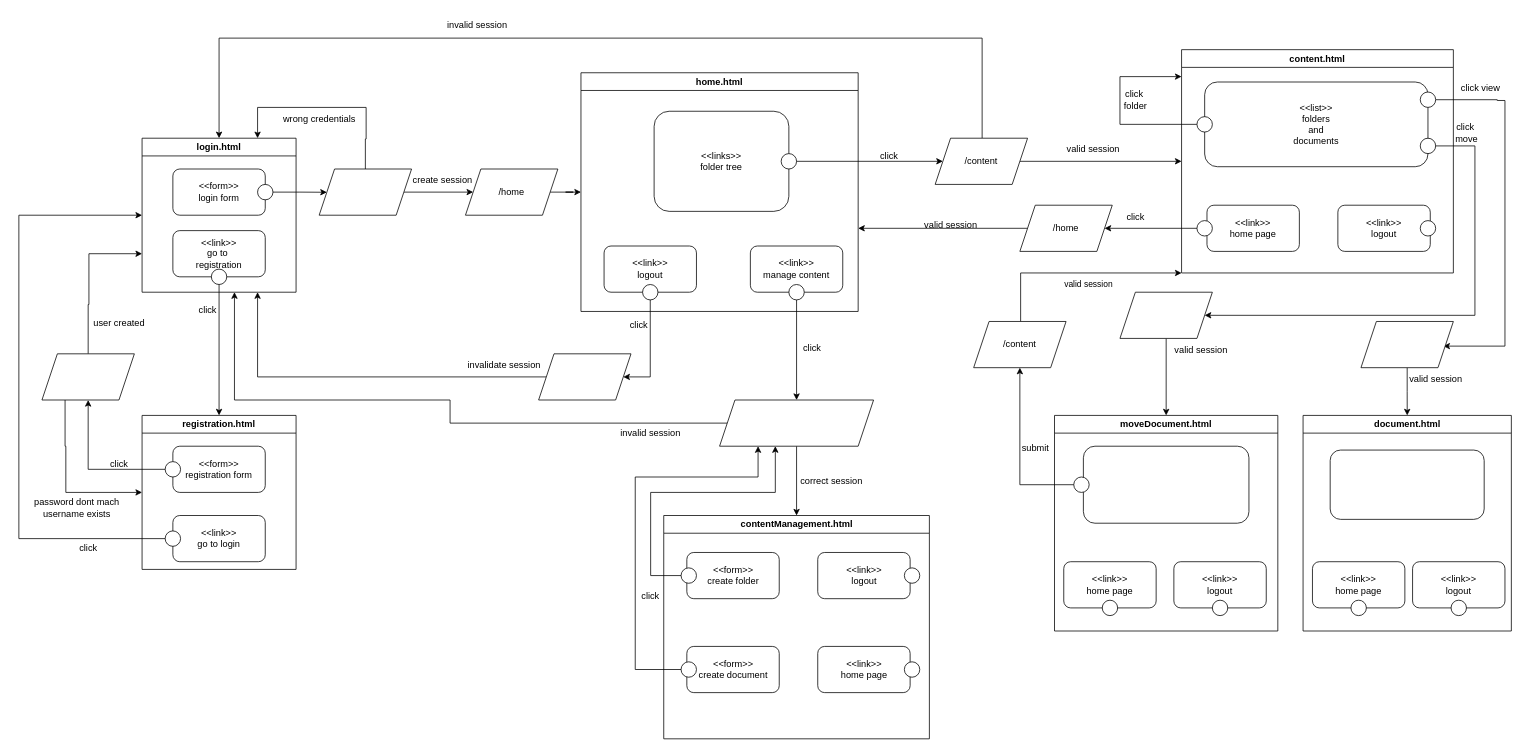
Image size: 1525x752. Some labels were removed from this diagram. Each missing label, with the centre of its shape:
/contentManagement: pixel 796 422
/document: pixel 1406 344
/login: pixel 365 191
/logout: pixel 584 376
/moveDocument: pixel 1165 314
/register: pixel 87 376
<<detailt>> document details: pixel 1406 484
<<form>> move Document: pixel 1166 484
